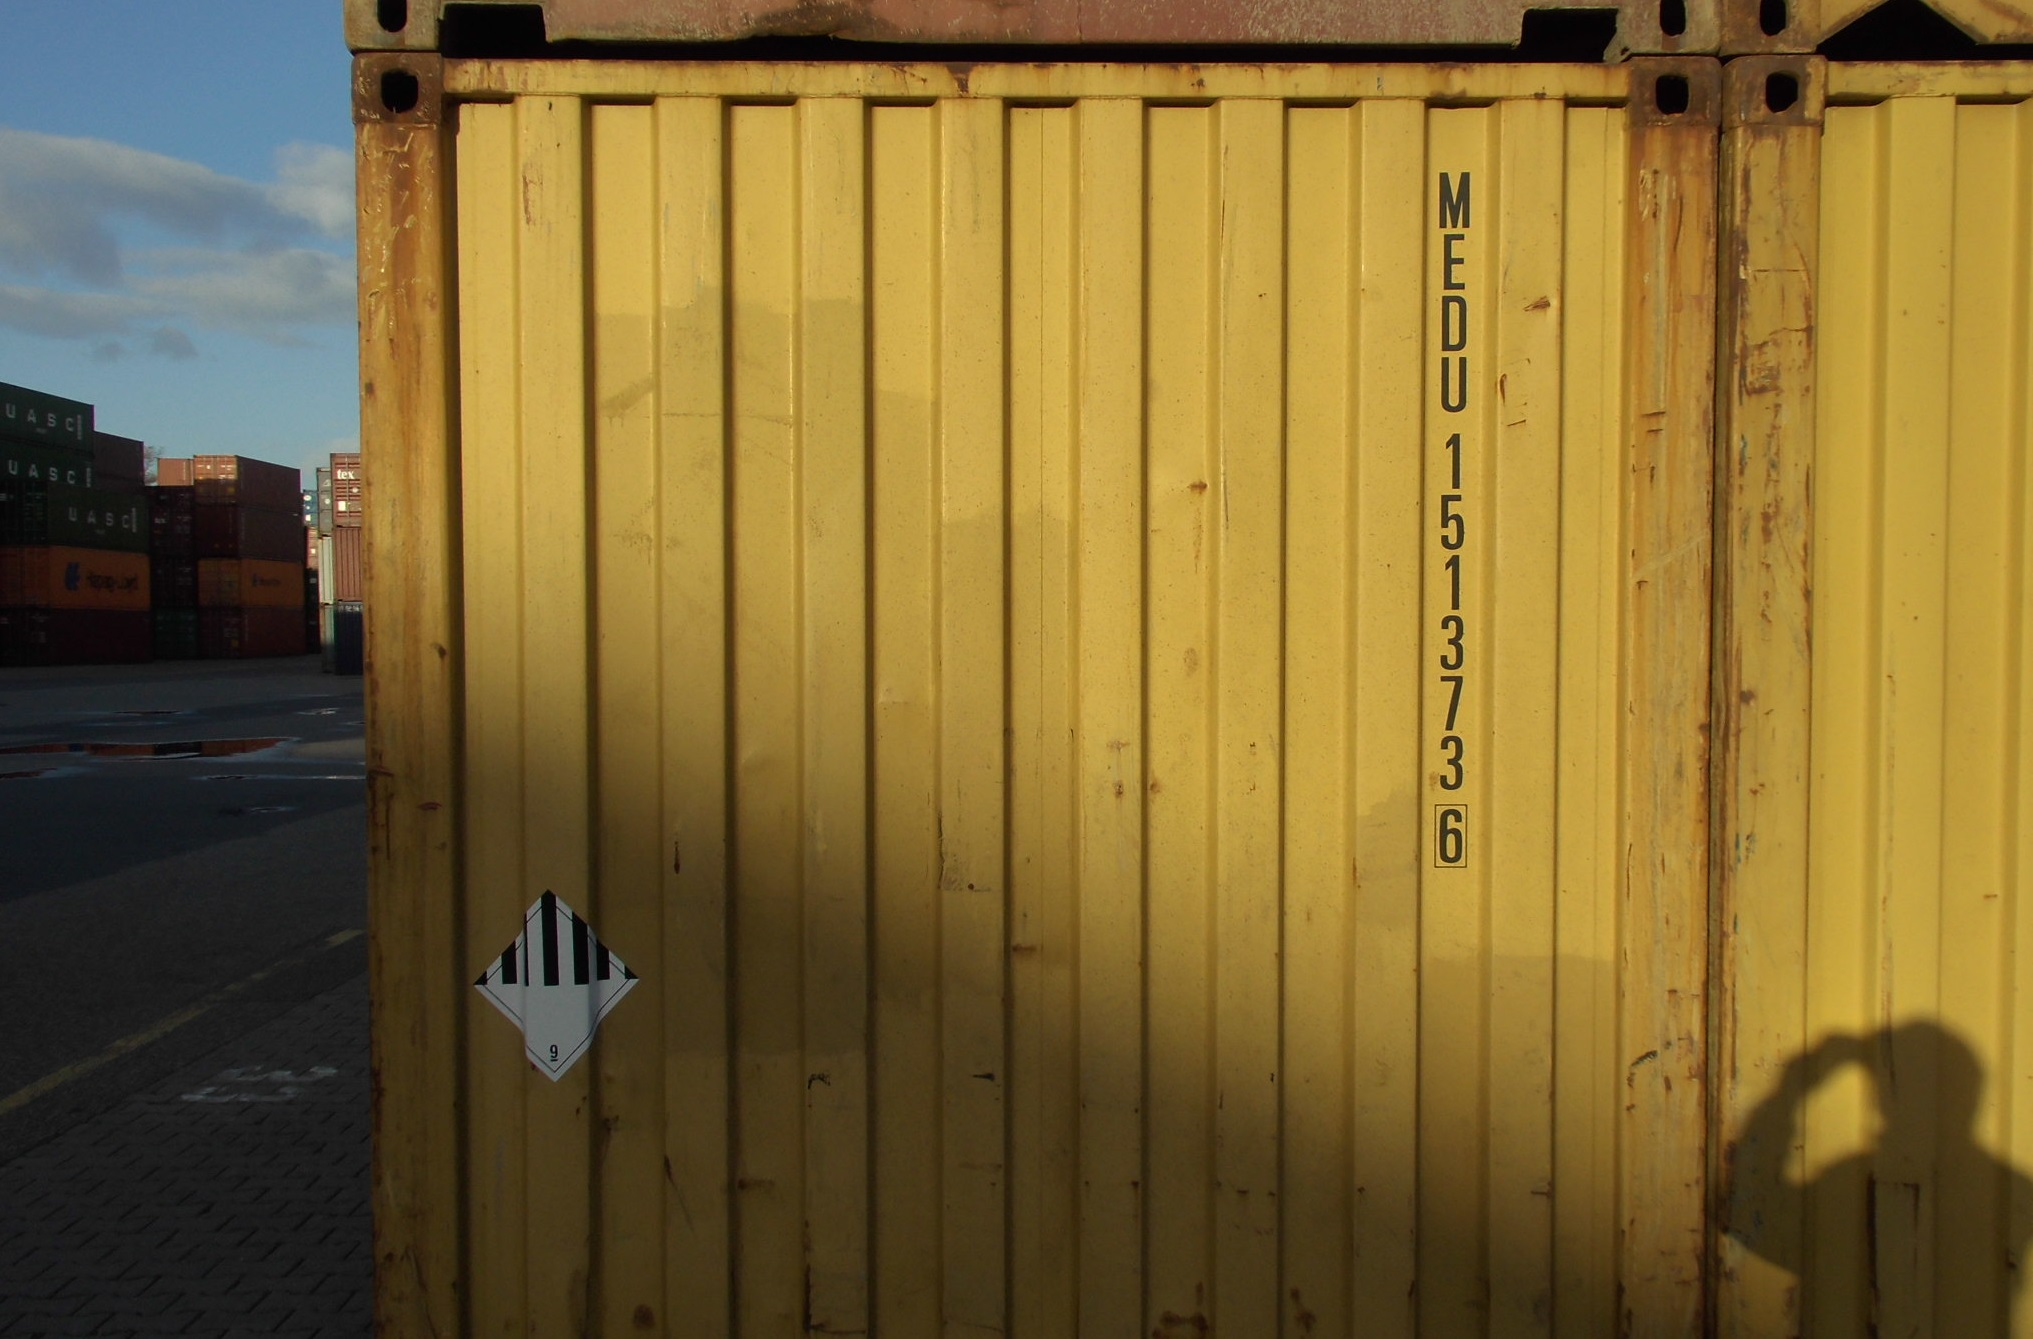container_no_door: (338, 49, 1712, 1318)
